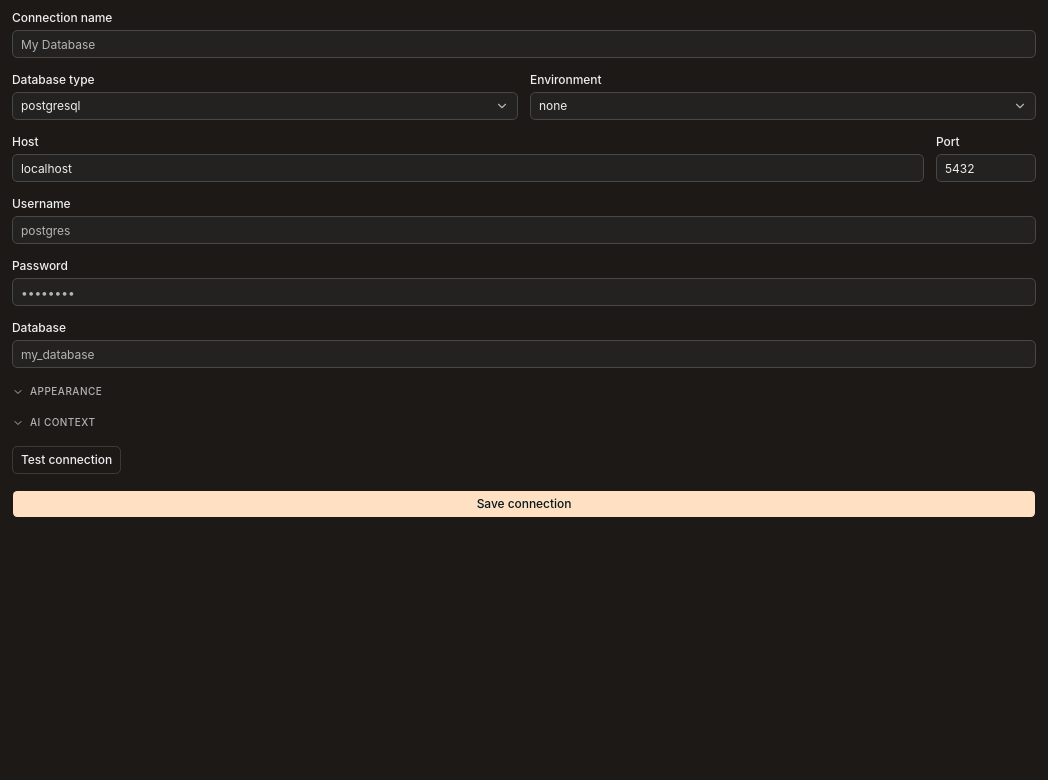
Scenario: connectionForm inline validation › shows an inline alert when Test connection is clicked with an empty name
Step 1. Click the button "Test connection" → click(67, 460), box [12,446,121,474]
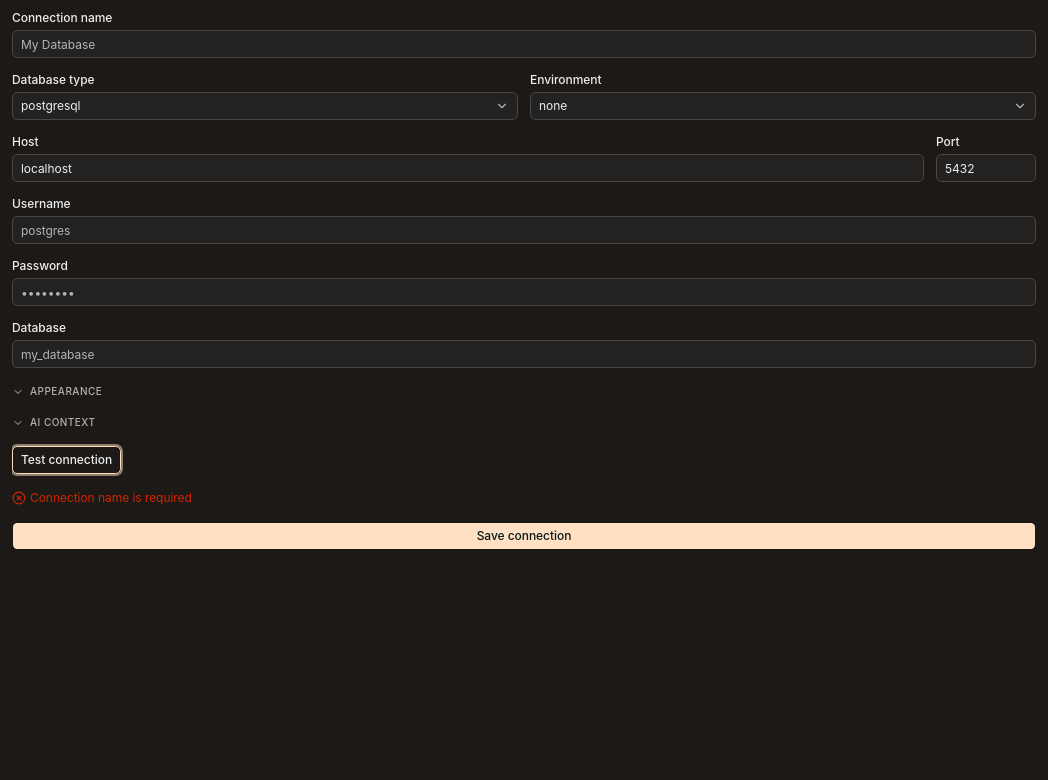
Result: the message "Connection name is required" is shown at [12,490,192,505]
Result: the message reads "Connection name is required" at [30,490,192,505]
